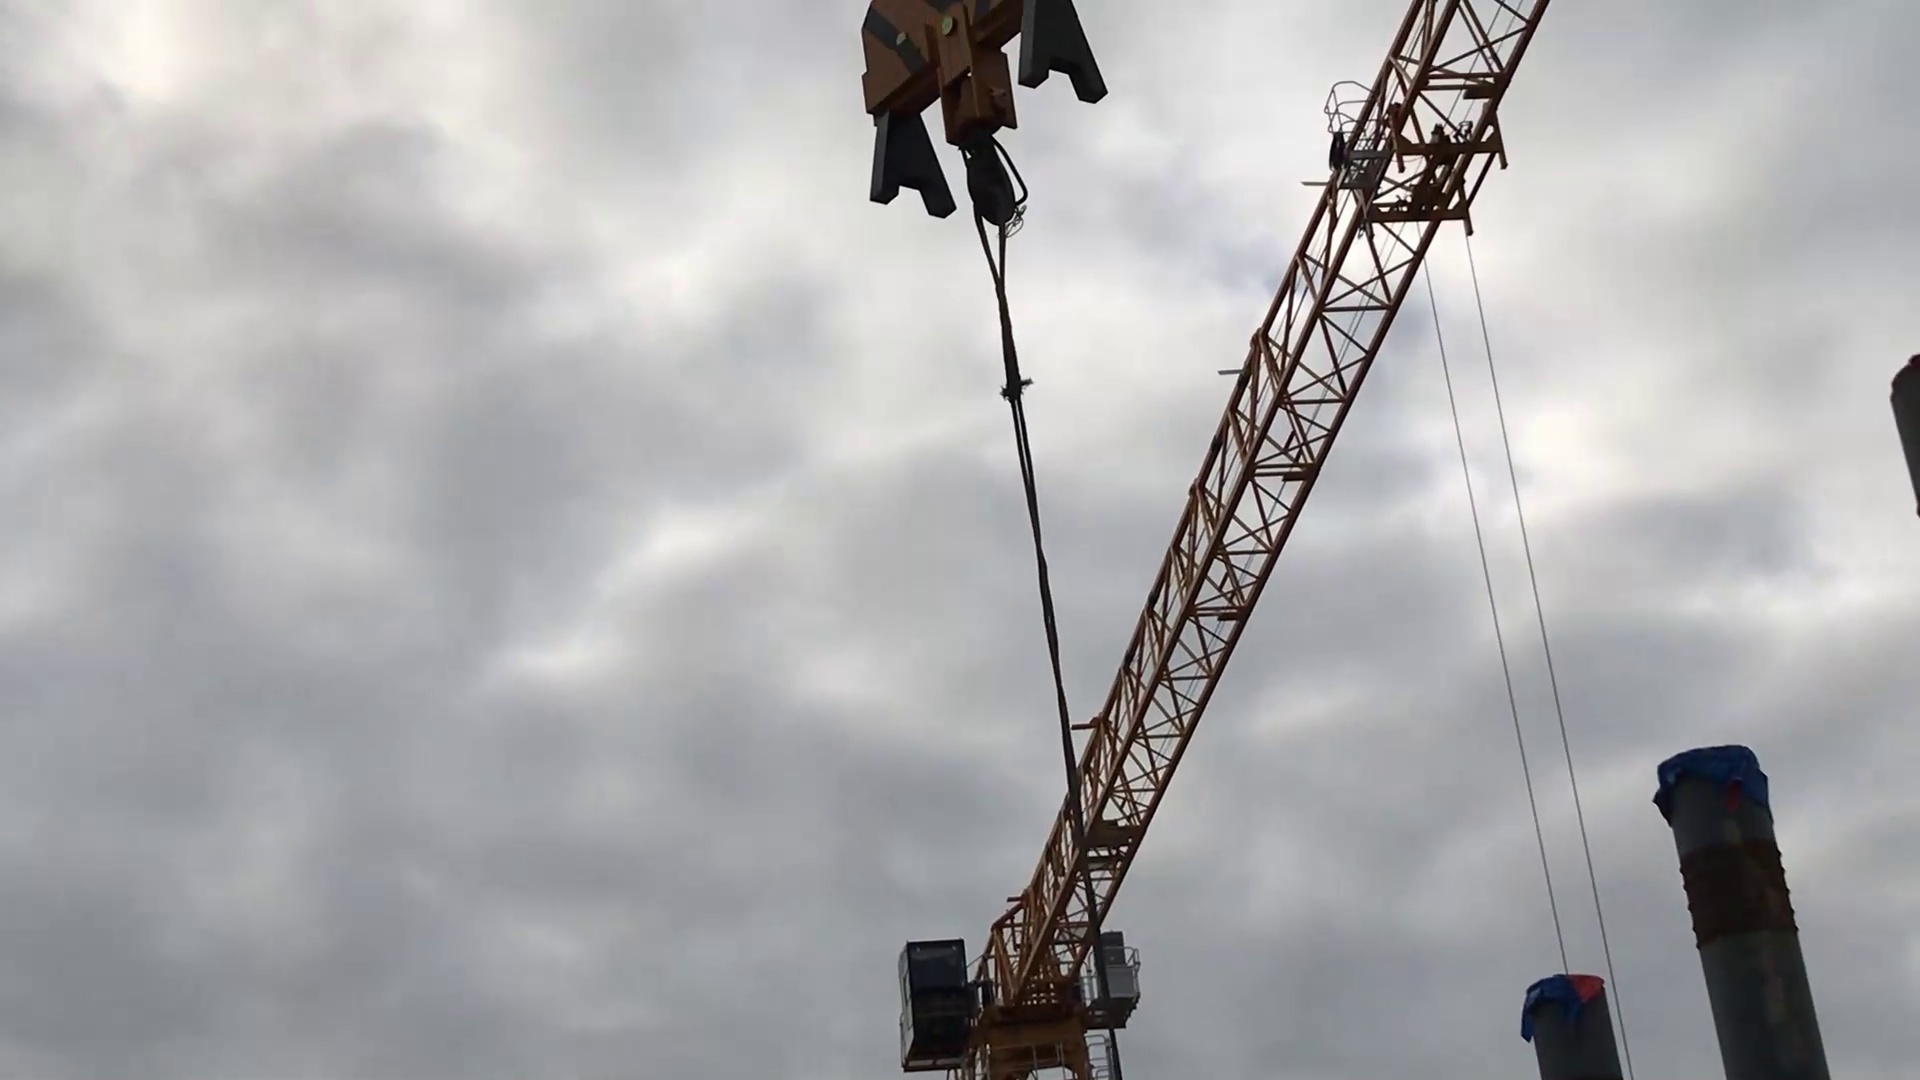hook: (849, 1, 1120, 253)
